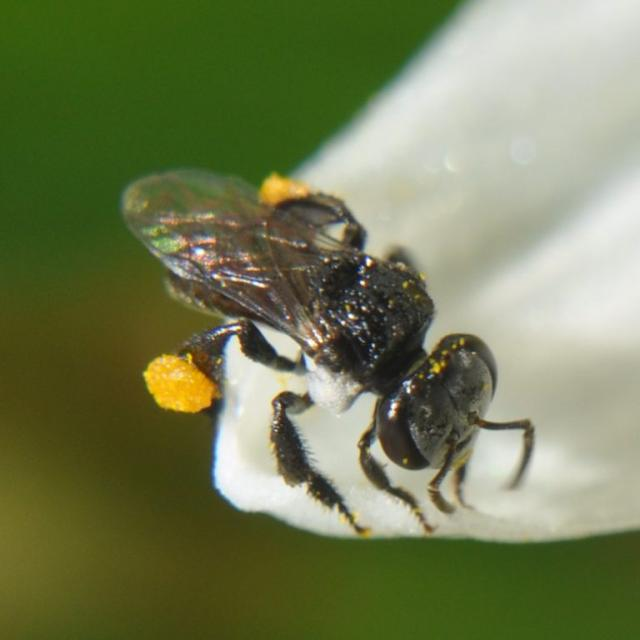Xylocopa: (117, 152, 550, 563)
